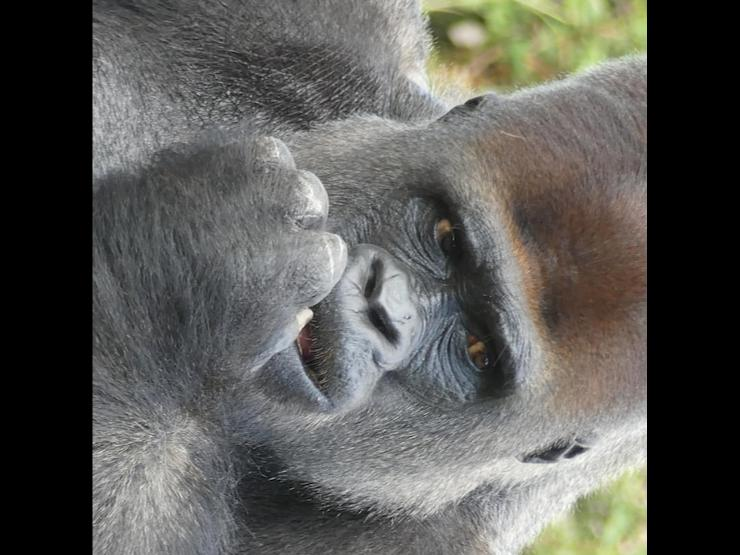gorille_Autres: (92, 0, 644, 555)
